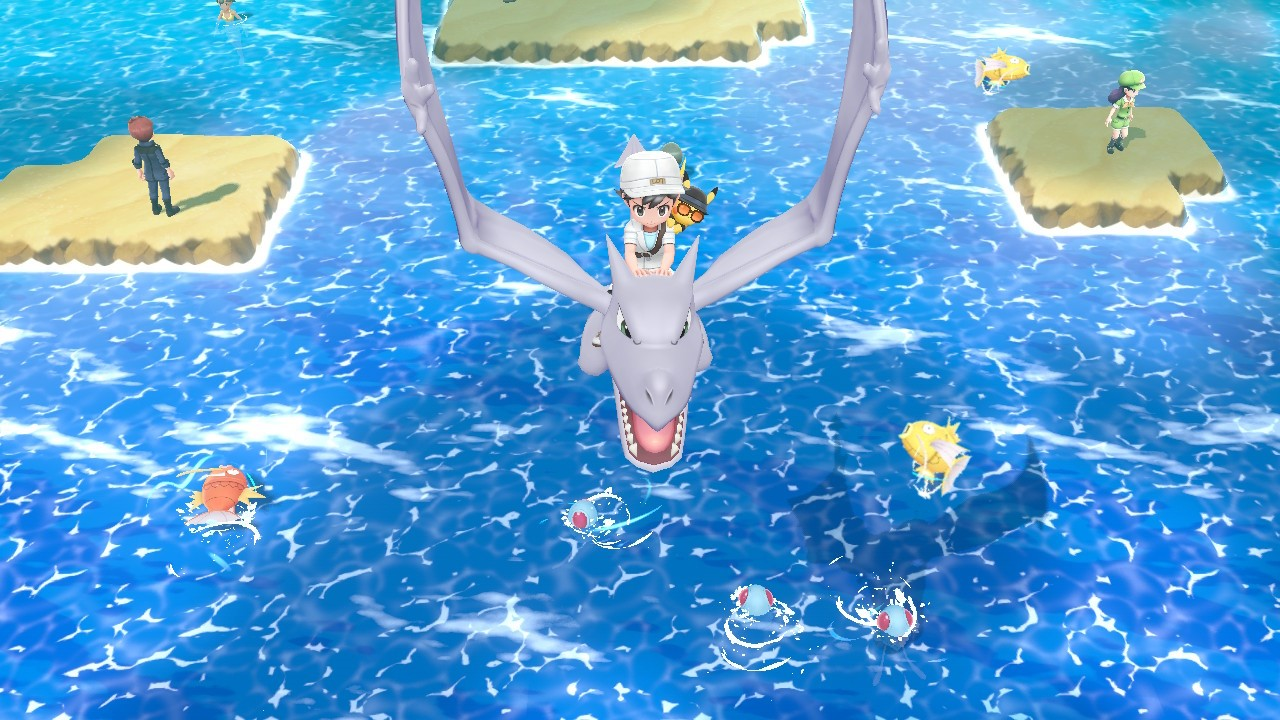Golden: (897, 419, 973, 494), (973, 44, 1035, 93)
Red: (191, 462, 261, 532)
